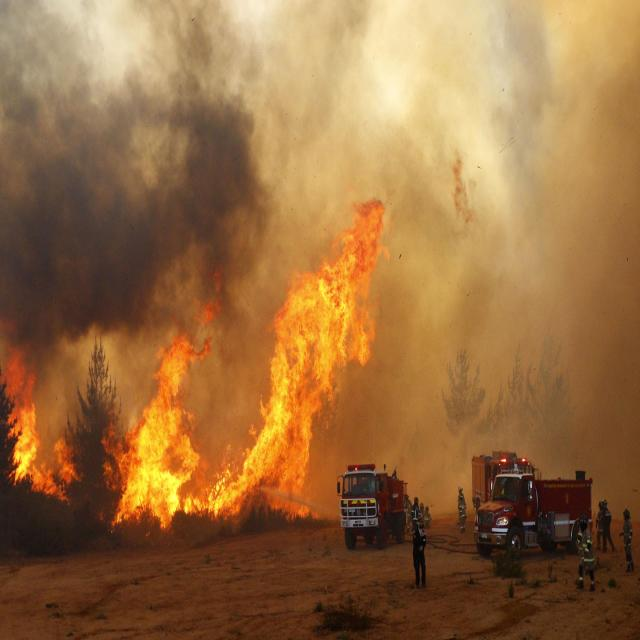Fire: (0, 203, 390, 522)
Smoke: (0, 0, 640, 356), (391, 358, 640, 516)
